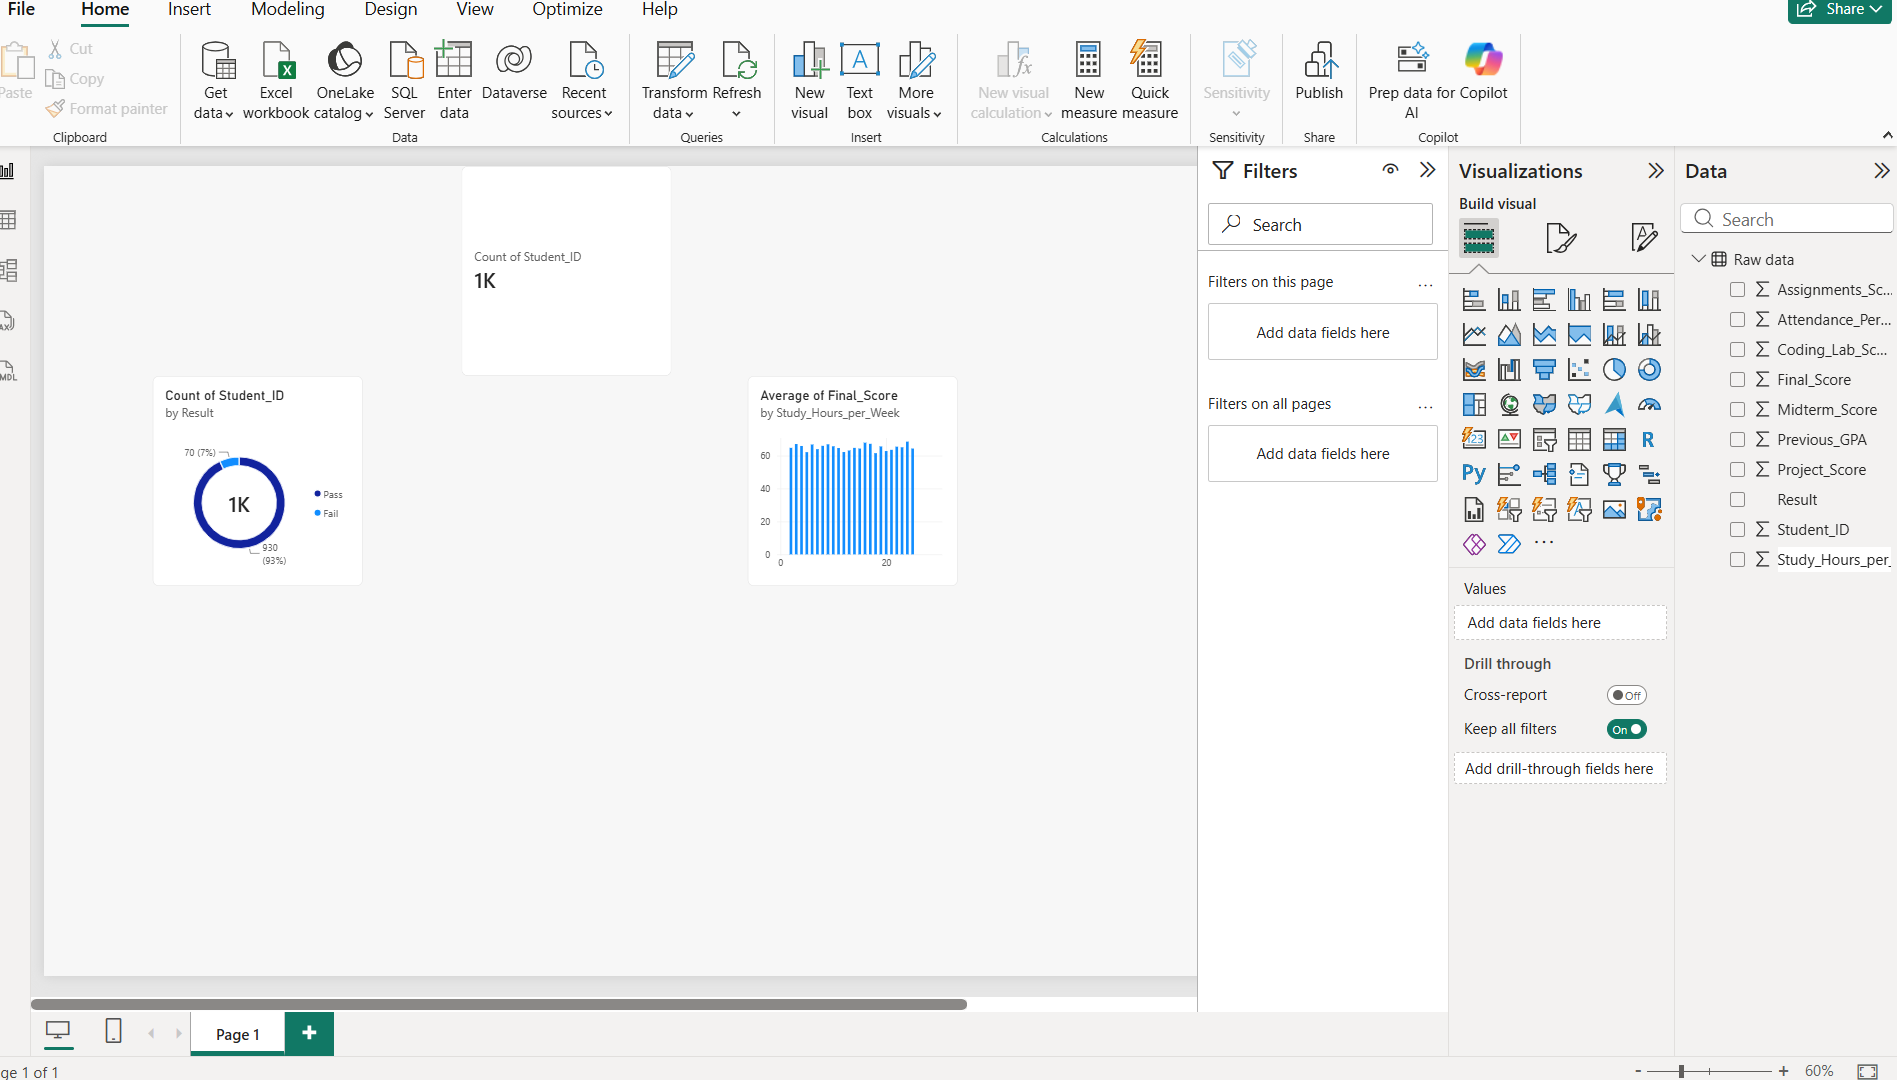

The dashboard page shown, as its layout file describes it:
{"tool":"powerbi","page":{"name":"Page 1","canvas":[1920,1080],"ordinal":0},"visuals":[{"type":"cardVisual","fields":{"Data":["CountNonNull(Raw data.Student_ID)"]},"box":[556.7,0,280,280],"z":0},{"type":"donutChart","fields":{"Category":["Raw data.Result"],"Y":["CountNonNull(Raw data.Student_ID)"]},"box":[145,280,280,280],"z":1},{"type":"clusteredColumnChart","fields":{"Category":["Raw data.Study_Hours_per_Week"],"Y":["Avg(Raw data.Final_Score)"]},"box":[938.3,280,280,280],"z":4}]}

Visuals, with their boxes on the page's 1920x1080 design canvas (x1, y1, x2, y2). These are canvas units, not pixel positions in the 1897x1080 screenshot, which may show the page scaled, cropped or inside an application window:
cardVisual - CountNonNull(Raw data.Student_ID): (left=557, top=0, right=837, bottom=280)
donutChart - Raw data.Result x CountNonNull(Raw data.Student_ID): (left=145, top=280, right=425, bottom=560)
clusteredColumnChart - Raw data.Study_Hours_per_Week x Avg(Raw data.Final_Score): (left=938, top=280, right=1218, bottom=560)
